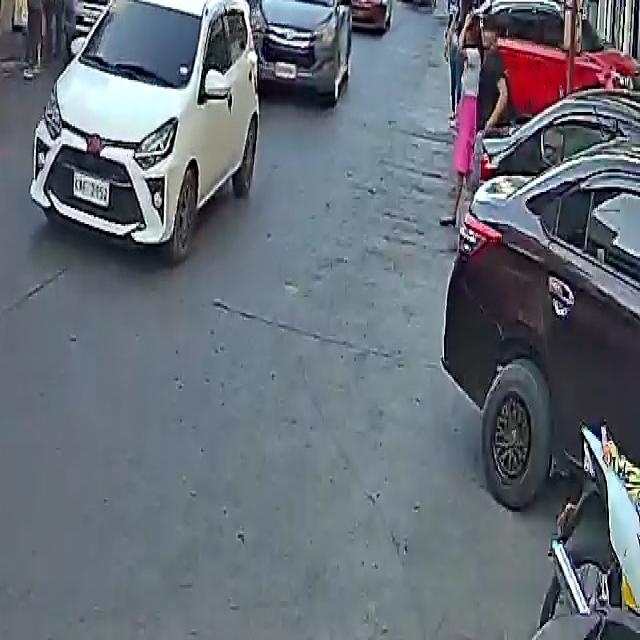car: (441, 45, 640, 534), (26, 0, 262, 256), (452, 0, 640, 139), (251, 0, 352, 107), (69, 0, 197, 27), (341, 0, 387, 28)
